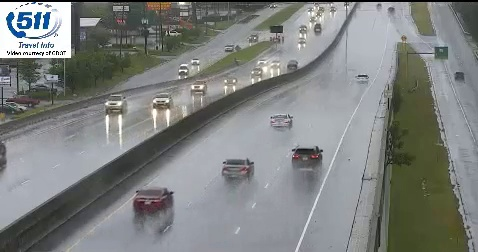car: (133, 188, 173, 214), (222, 158, 253, 181), (292, 146, 322, 167), (269, 114, 292, 130)
